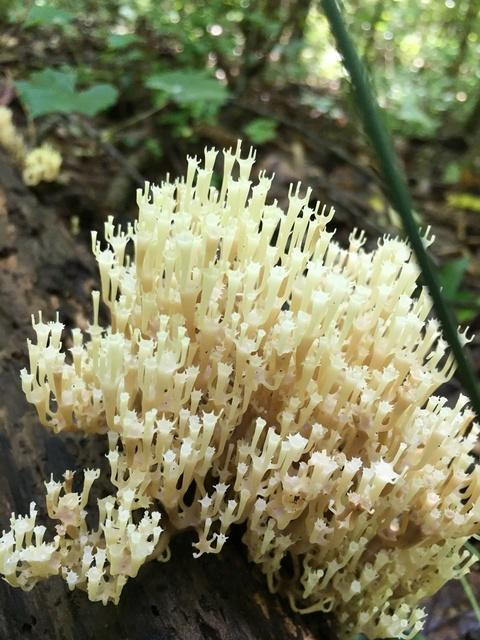edible_mushroom: (0, 137, 478, 638)
